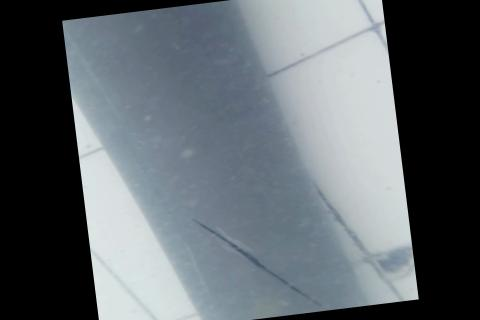keretakan: (187, 200, 319, 320)
